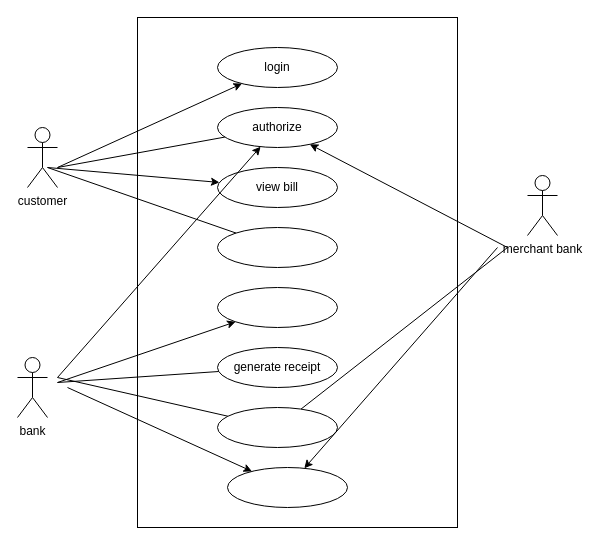
Image size: 599x545. Some labels were removed from this diagram. Each missing label, with the centre of its shape:
"billing info" goes at (287,487).
"make payment" goes at (277,247).
"transcation history" goes at (277,427).
"verify payment" goes at (277,307).
